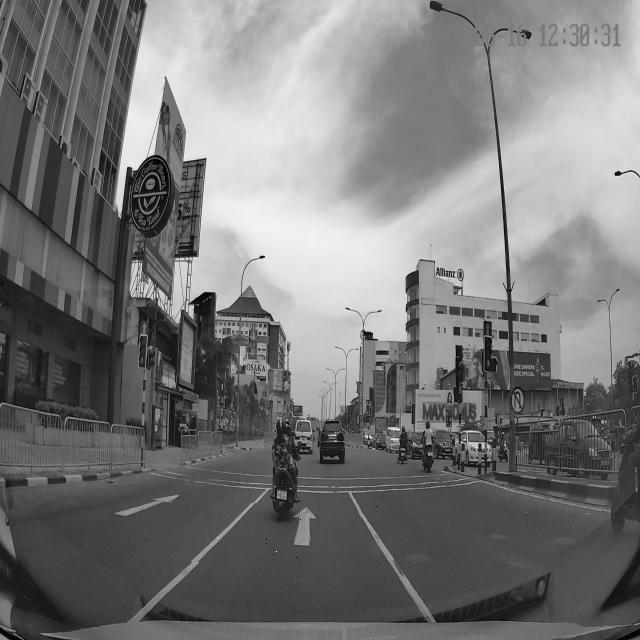forward: (193, 504, 396, 562)
